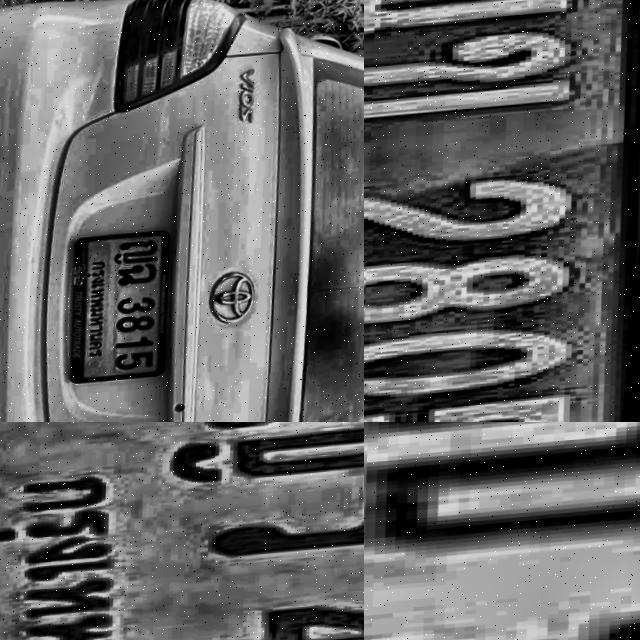license-plate: (364, 0, 640, 422), (0, 422, 364, 640), (364, 422, 640, 640), (63, 230, 189, 387)
